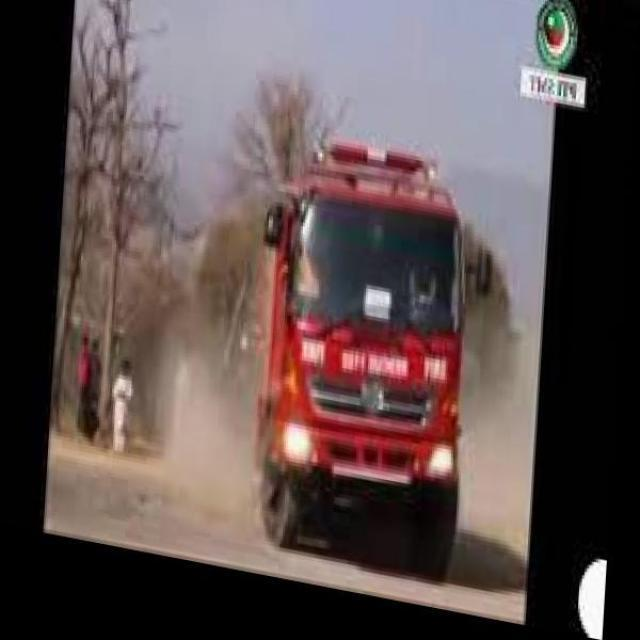emergency: (259, 140, 469, 582)
